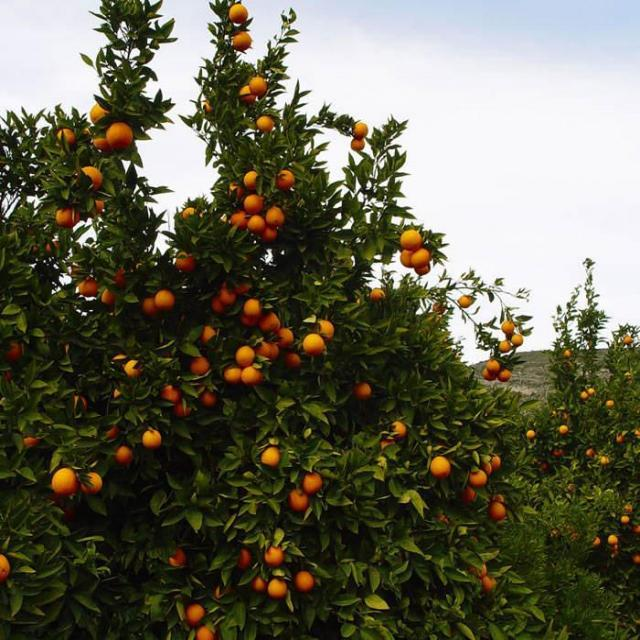Jeruk Sudah Matang: (51, 469, 78, 495), (56, 205, 82, 231), (106, 122, 133, 147), (301, 332, 326, 358), (185, 605, 206, 633), (262, 204, 286, 228), (151, 288, 174, 313), (79, 165, 101, 190), (431, 456, 453, 481), (400, 228, 423, 251), (246, 213, 268, 236), (234, 346, 255, 370), (258, 223, 282, 244), (352, 379, 374, 401), (140, 428, 162, 450), (263, 547, 285, 569), (241, 366, 265, 386), (229, 209, 251, 230), (293, 574, 315, 595), (265, 579, 287, 600), (230, 30, 252, 51), (242, 193, 264, 214), (261, 445, 281, 468), (490, 499, 508, 524), (187, 356, 208, 377), (222, 364, 242, 386), (88, 101, 106, 125), (302, 475, 323, 495), (55, 127, 78, 145), (242, 171, 260, 194), (246, 297, 265, 318), (256, 114, 275, 135), (247, 78, 267, 97), (278, 170, 295, 192), (469, 471, 489, 489), (114, 445, 132, 464), (392, 422, 409, 442), (350, 137, 367, 153), (352, 122, 369, 138), (0, 556, 9, 586), (486, 358, 501, 375), (509, 332, 524, 348)
